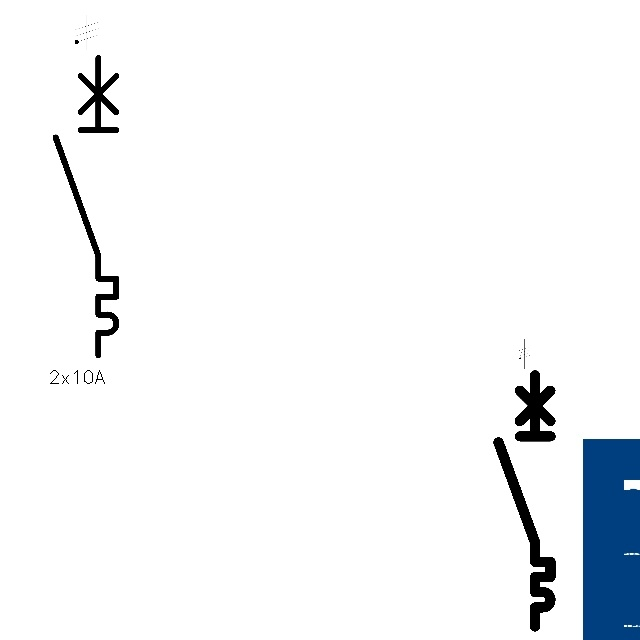interruptor_termomagnetico: (48, 50, 124, 363), (492, 368, 557, 632)
